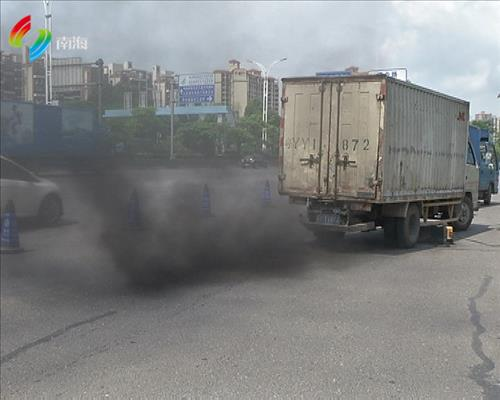smoke: (90, 167, 305, 295)
